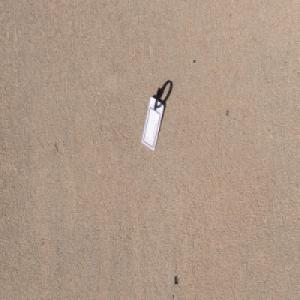LuggageTag: (141, 86, 164, 152)
